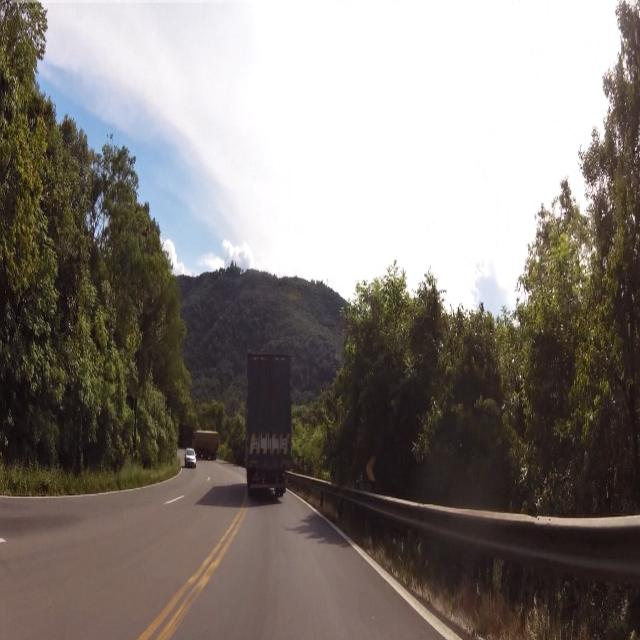Del: (364, 452, 380, 490)
